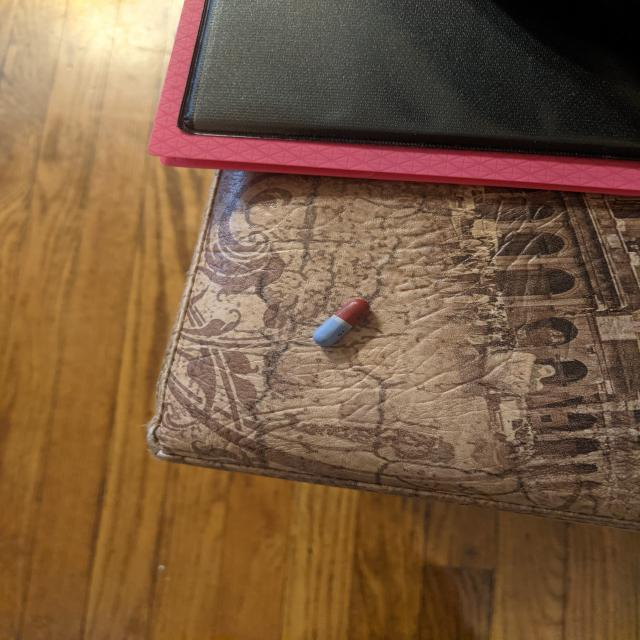non-organic waste: (312, 298, 372, 347)
